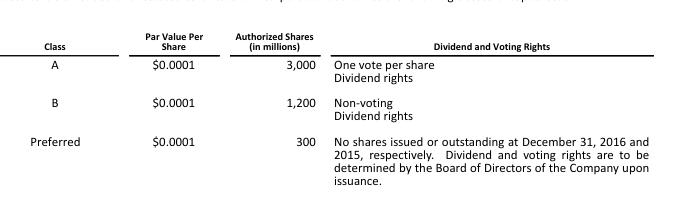table: (29, 28, 648, 187)
table column: (323, 28, 648, 187), (111, 28, 218, 187), (218, 28, 323, 187), (29, 28, 111, 187)
table column header: (29, 28, 648, 53)
table row: (29, 127, 648, 187), (29, 89, 648, 127), (29, 53, 648, 89), (29, 28, 648, 53)
